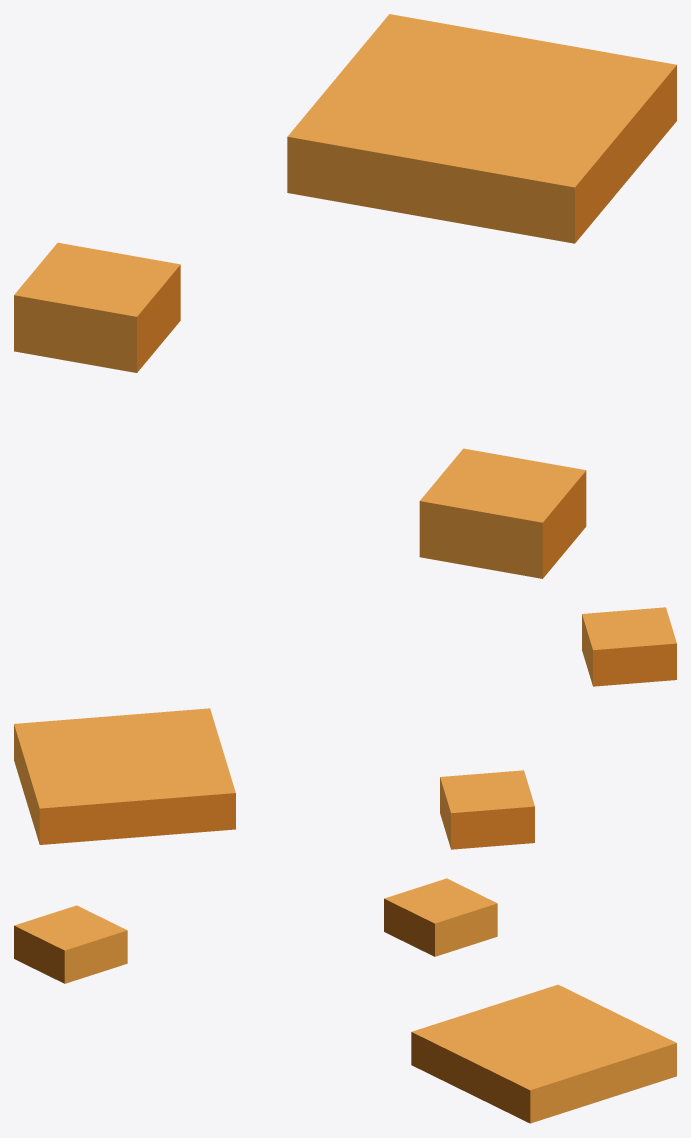
Rendered from rubble_05.fbx.
The picture shows the model from 3 angles, top to bottom: view 1: azimuth 30°, elevation 25°; view 2: azimuth 150°, elevation 25°; view 3: azimuth 270°, elevation 25°; orthographic projection. The views are drawn at different scales.
Parts seen in each view (by area): view 1: rubble_05; view 2: rubble_05; view 3: rubble_05.
Boxes of the visible parts, box(x1,y1,x2,y2) form: rubble_05: box(14, 14, 676, 578); rubble_05: box(14, 607, 676, 849); rubble_05: box(14, 878, 676, 1123).
Size of the model in its own units: 140 by 10.27 by 185.
